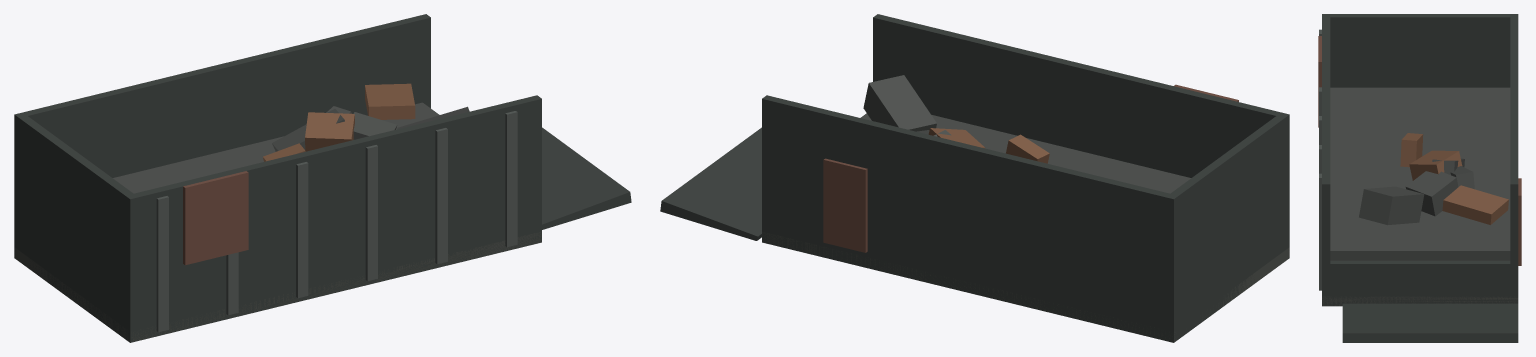
File: ancient_open_container_2.obj
3 renders of one model, left to right at view 1: azimuth 30°, elevation 25°; view 2: azimuth 150°, elevation 25°; view 3: azimuth 270°, elevation 25°, orthographic. The views are drawn at different scales.
Visible parts, largest first — view 1: ancient_open_container_2; view 2: ancient_open_container_2; view 3: ancient_open_container_2.
Boxes of the visible parts, x1,y1,x2,y2 form: ancient_open_container_2: [14, 14, 631, 342]; ancient_open_container_2: [660, 14, 1289, 342]; ancient_open_container_2: [1318, 14, 1521, 342].
Size of the model in its own units: 4.86 by 1.3 by 1.97.
